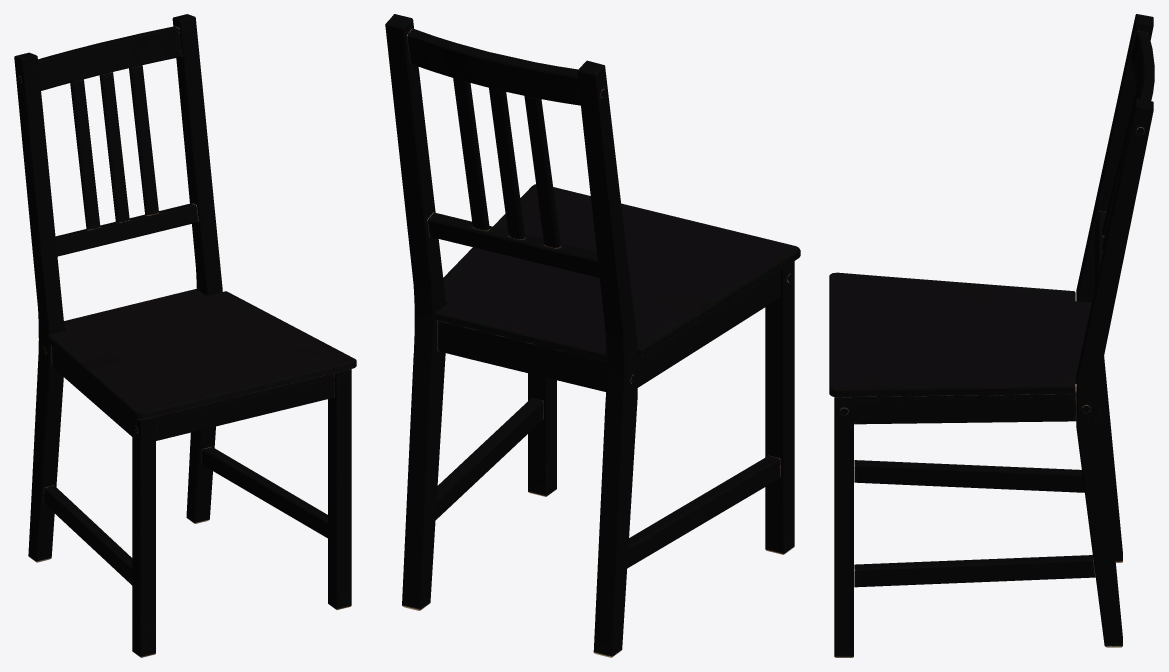
The picture shows the model from 3 angles, left to right: view 1: azimuth 30°, elevation 25°; view 2: azimuth 150°, elevation 25°; view 3: azimuth 270°, elevation 25°; orthographic projection. The views are drawn at different scales.
Visible parts, largest first — view 1: d2a53697-a3eb-4c98-91c0-4919a30806db; view 2: d2a53697-a3eb-4c98-91c0-4919a30806db; view 3: d2a53697-a3eb-4c98-91c0-4919a30806db.
Boxes of the visible parts, x1,y1,x2,y2 form: d2a53697-a3eb-4c98-91c0-4919a30806db: (14,14,356,657); d2a53697-a3eb-4c98-91c0-4919a30806db: (385,14,800,657); d2a53697-a3eb-4c98-91c0-4919a30806db: (829,14,1154,657).
Size of the model in its own units: 0.4199 by 0.9 by 0.4901.
1 material, 1 textured.
